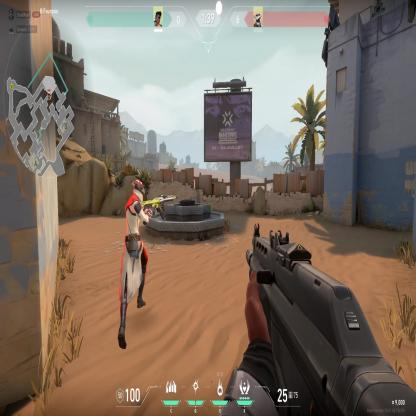enemy: (117, 173, 148, 353)
